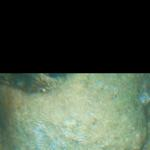dead: (1, 75, 148, 148)
